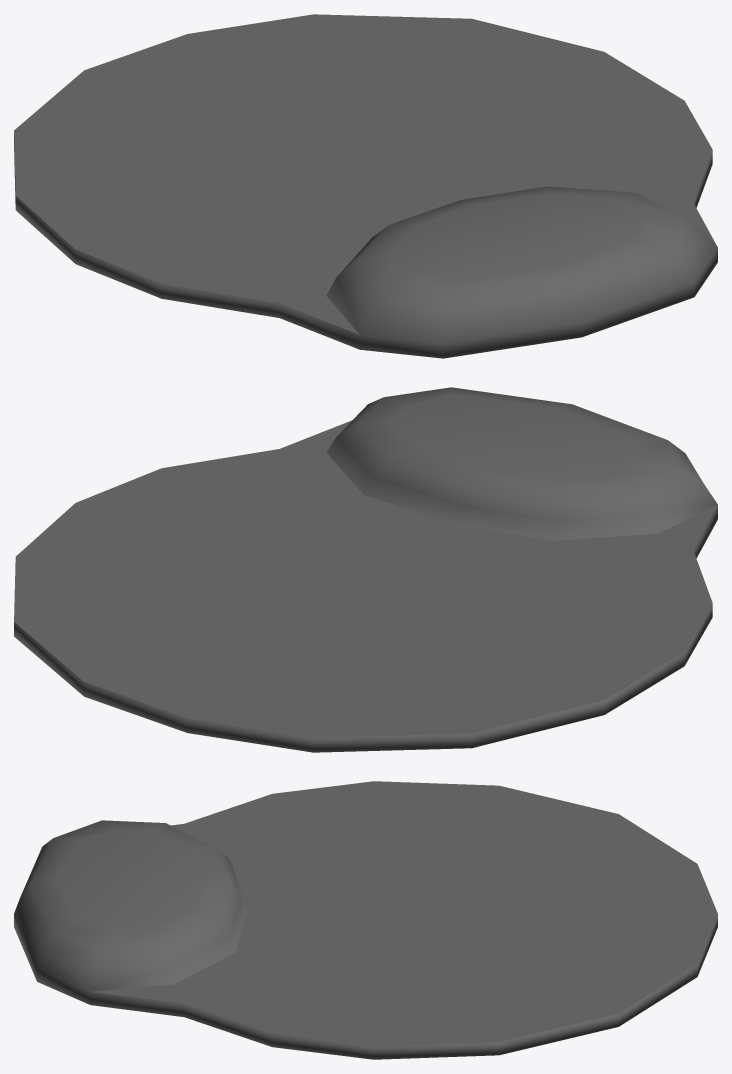
Rendered from PC Mouse Pad.fbx.
The picture shows the model from 3 angles, top to bottom: view 1: azimuth 30°, elevation 25°; view 2: azimuth 150°, elevation 25°; view 3: azimuth 270°, elevation 25°; orthographic projection. The views are drawn at different scales.
Visible parts, largest first — view 1: PC Mouse Pad; view 2: PC Mouse Pad; view 3: PC Mouse Pad.
Part boxes in pixels (x1,y1,x2,y2): PC Mouse Pad: [14, 14, 717, 358]; PC Mouse Pad: [14, 387, 717, 752]; PC Mouse Pad: [14, 781, 717, 1059].
Bounding box in the file's own units: 26.02 × 2.23 × 29.18.
